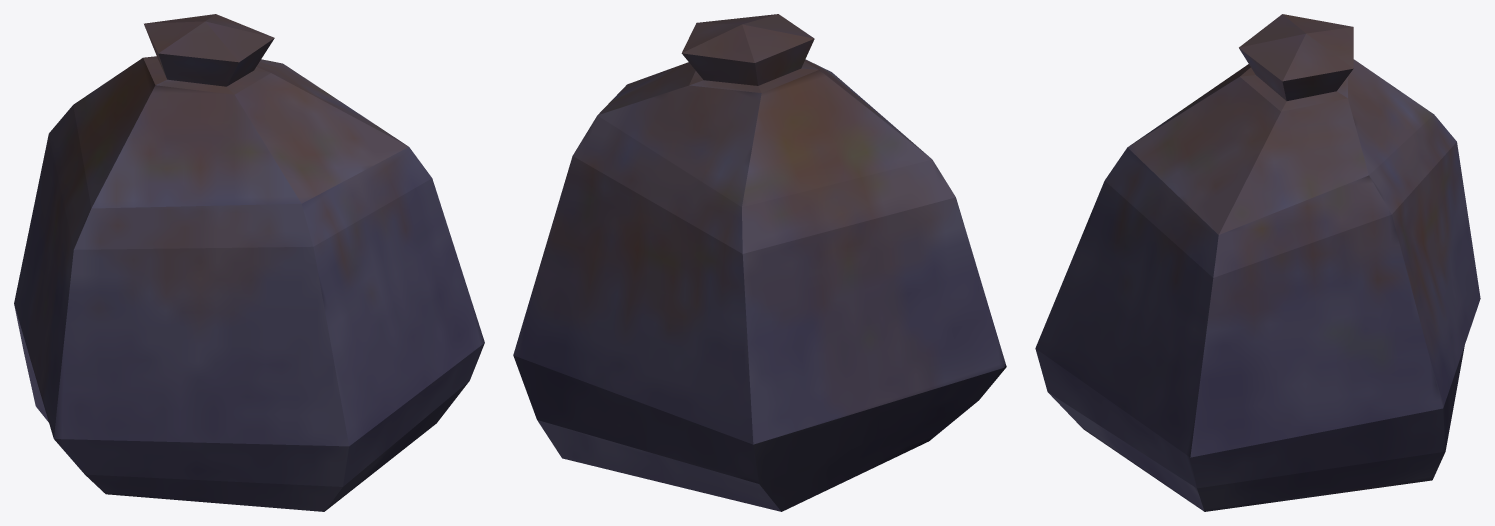
The model's file is TrashBag.fbx.
3 views of the same model, side by side, from view 1: azimuth 30°, elevation 25°; view 2: azimuth 150°, elevation 25°; view 3: azimuth 270°, elevation 25° (orthographic). The views are drawn at different scales.
Visible parts, largest first — view 1: Trashbag; view 2: Trashbag; view 3: Trashbag.
Part boxes in pixels (bbox=[...]): Trashbag: bbox=[14, 14, 484, 511]; Trashbag: bbox=[513, 14, 1006, 511]; Trashbag: bbox=[1035, 14, 1480, 511].
Bounding box in the file's own units: 91.26 × 92.44 × 85.42.
Materials: 1 (1 with a texture image).
